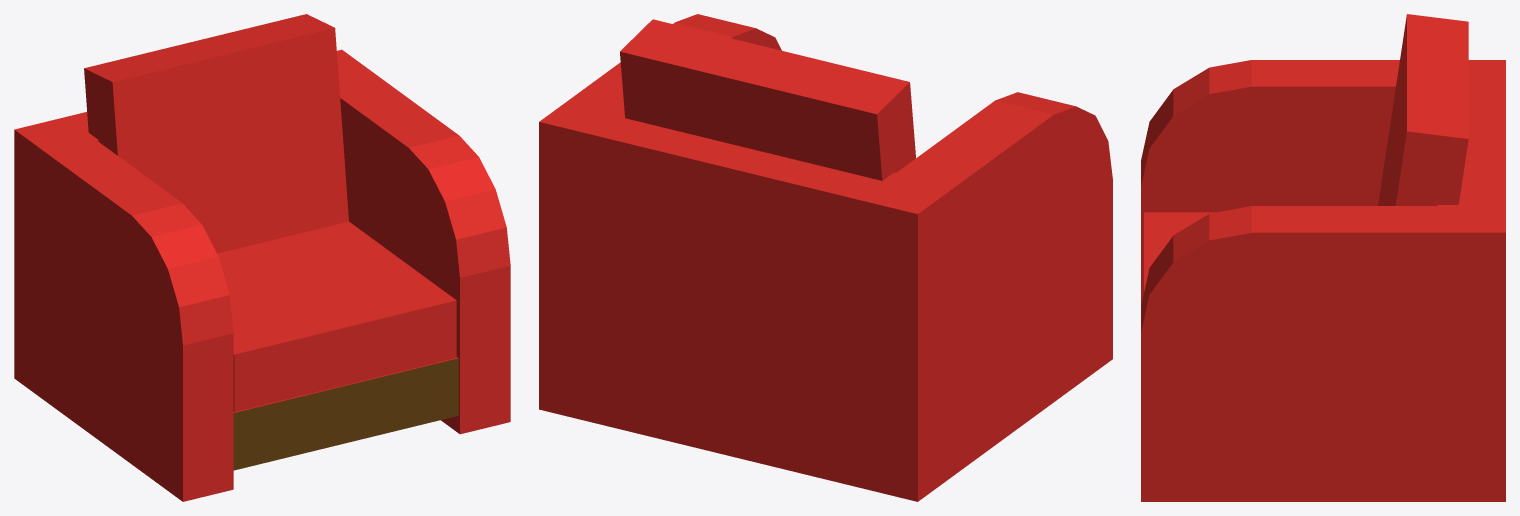
File: Sofa2.fbx
The picture shows the model from 3 angles, left to right: view 1: azimuth 30°, elevation 25°; view 2: azimuth 150°, elevation 25°; view 3: azimuth 270°, elevation 25°; orthographic projection. The views are drawn at different scales.
Visible parts, largest first — view 1: Sofa_06; view 2: Sofa_06; view 3: Sofa_06.
Boxes of the visible parts, bbox=[...] form: Sofa_06: bbox=[14, 14, 510, 501]; Sofa_06: bbox=[539, 14, 1112, 501]; Sofa_06: bbox=[1141, 14, 1505, 501].
Size of the model in its own units: 211 by 195 by 188.
